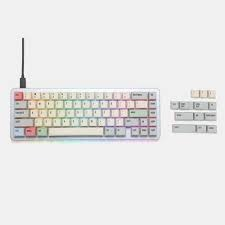keyboard: (10, 83, 162, 141)
